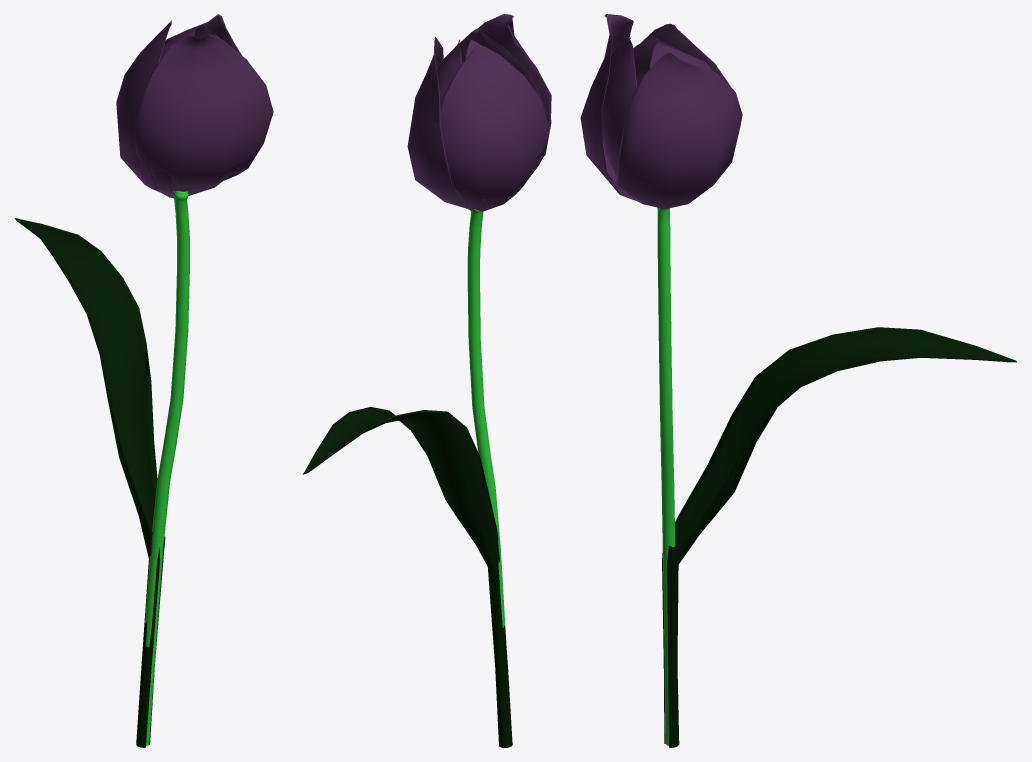
File: Flower.fbx
3 renders of one model, left to right at view 1: azimuth 30°, elevation 25°; view 2: azimuth 150°, elevation 25°; view 3: azimuth 270°, elevation 25°, orthographic. The views are drawn at different scales.
Parts seen in each view (by area): view 1: 002.001; view 2: 002.001; view 3: 002.001.
Part boxes in pixels (x1=…): 002.001: x1=14, y1=14, x2=273, y2=747; 002.001: x1=302, y1=14, x2=551, y2=747; 002.001: x1=580, y1=14, x2=1016, y2=747.
Size of the model in its own units: 5.6 by 30.76 by 16.39.
